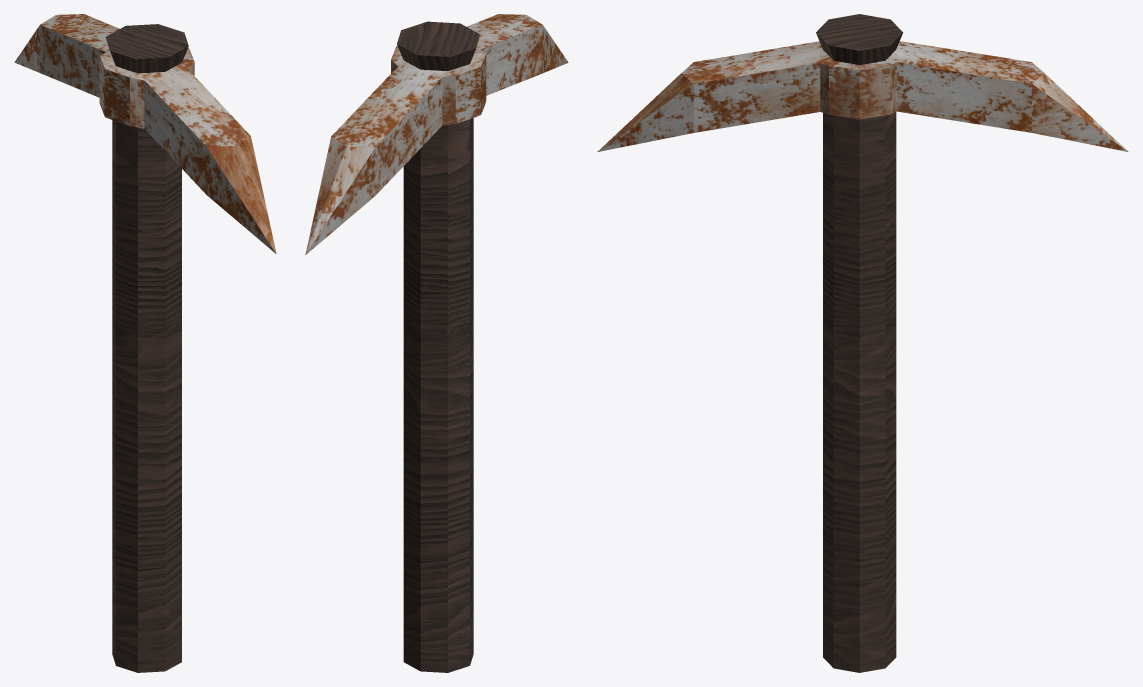
The model's file is mining_pick.glb.
The picture shows the model from 3 angles, left to right: view 1: azimuth 30°, elevation 25°; view 2: azimuth 150°, elevation 25°; view 3: azimuth 270°, elevation 25°; orthographic projection.
Visible parts, largest first — view 1: mining_pick; view 2: mining_pick; view 3: mining_pick.
Part boxes in pixels (<box>): mining_pick: <box>14,14,276,672</box>; mining_pick: <box>305,14,568,672</box>; mining_pick: <box>597,14,1128,672</box>.
Bounding box in the file's own units: 0.1082 × 0.7546 × 0.582.
Materials: 2 (2 with a texture image).
